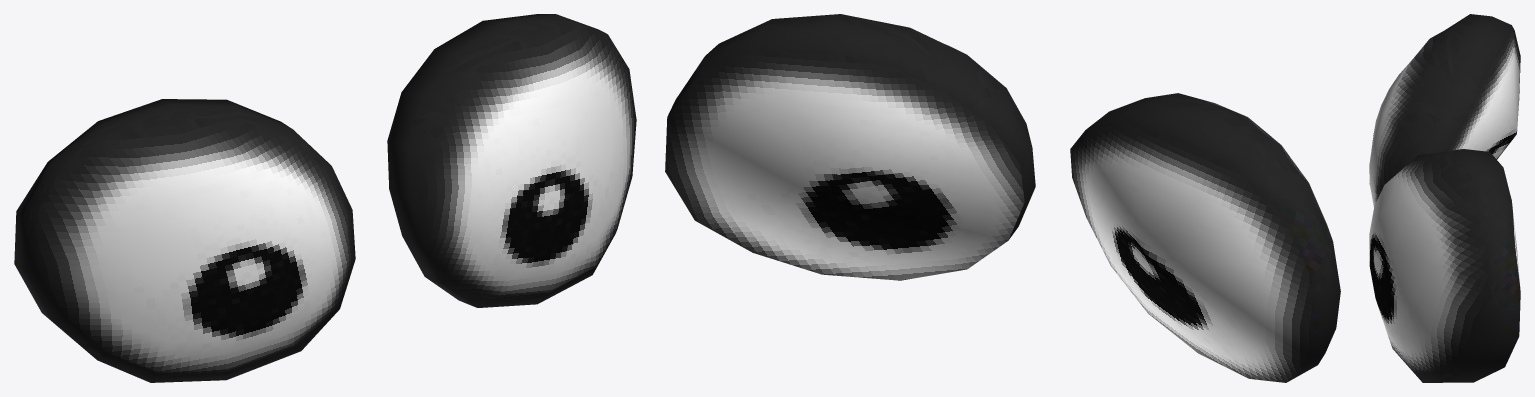
File: m_e_juyu.FBX
The picture shows the model from 3 angles, left to right: view 1: azimuth 30°, elevation 25°; view 2: azimuth 150°, elevation 25°; view 3: azimuth 270°, elevation 25°; orthographic projection. The views are drawn at different scales.
Parts seen in each view (by area): view 1: Object01; view 2: Object01; view 3: Object01.
Boxes of the visible parts, bbox=[...] form: Object01: bbox=[14, 14, 636, 382]; Object01: bbox=[665, 14, 1340, 382]; Object01: bbox=[1369, 14, 1520, 382].
Size of the model in its own units: 5.54 by 2.17 by 1.47.
